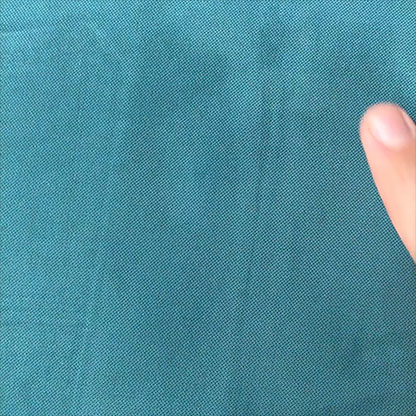fingertip: (348, 93, 416, 162)
